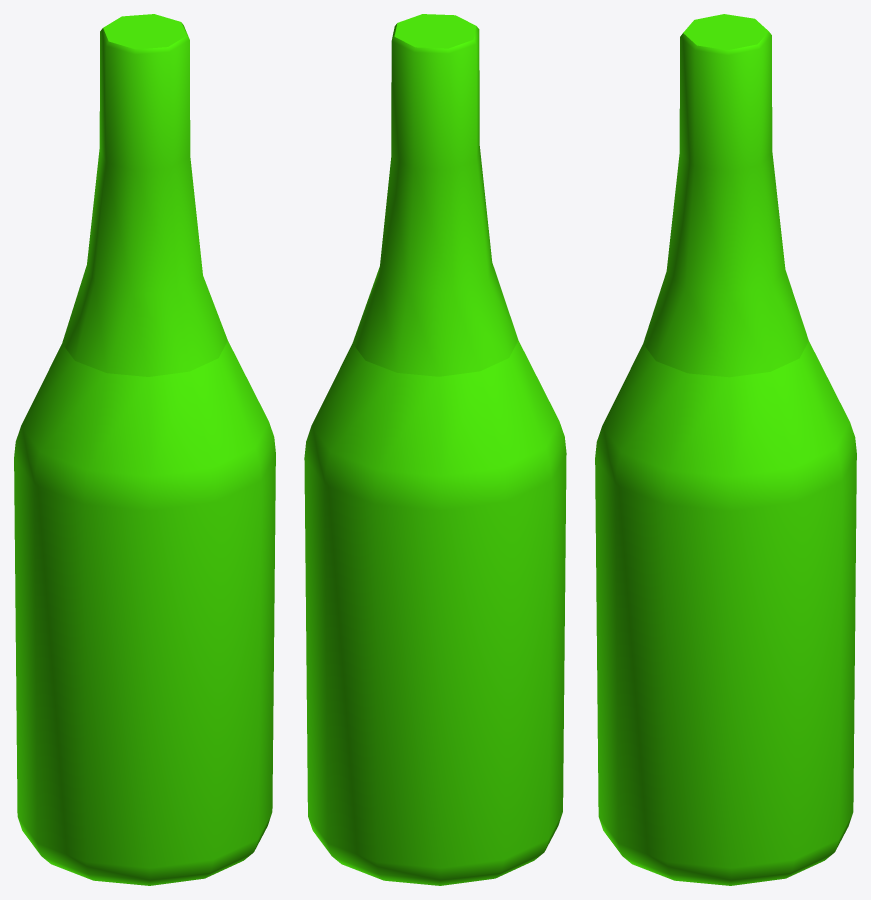
The model's file is 20_rum_malibu.gltf.
3 views of the same model, side by side, from view 1: azimuth 30°, elevation 25°; view 2: azimuth 150°, elevation 25°; view 3: azimuth 270°, elevation 25° (orthographic).
Visible parts, largest first — view 1: Malibu_Atlas_0; view 2: Malibu_Atlas_0; view 3: Malibu_Atlas_0.
Part boxes in pixels (x1,y1,x2,y2): Malibu_Atlas_0: (14, 14, 275, 885); Malibu_Atlas_0: (304, 14, 566, 885); Malibu_Atlas_0: (595, 14, 856, 885).
Size of the model in its own units: 7.96 by 27.23 by 7.96.
1 material, 1 textured.
